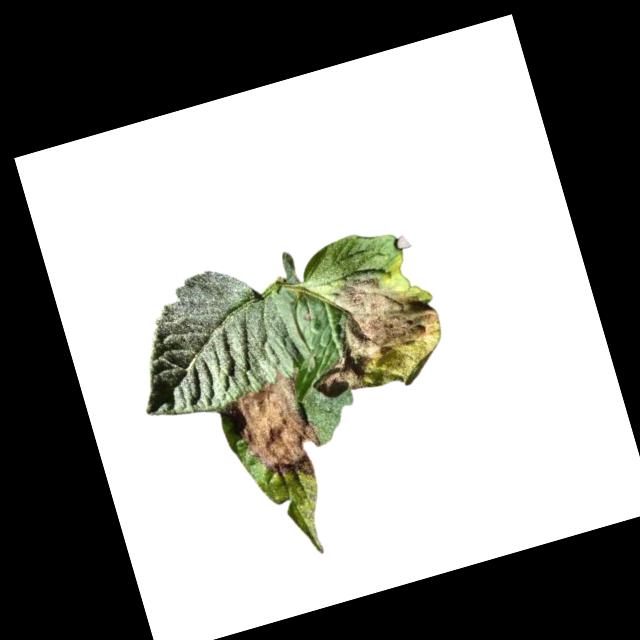Late_blight: (285, 260, 455, 413), (222, 368, 328, 495)
healthy: (115, 254, 307, 427)
